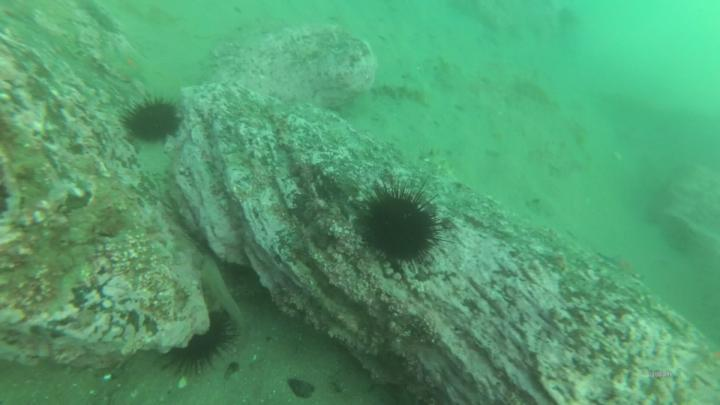echinus: (357, 181, 443, 267), (170, 311, 236, 373), (121, 95, 184, 148)
